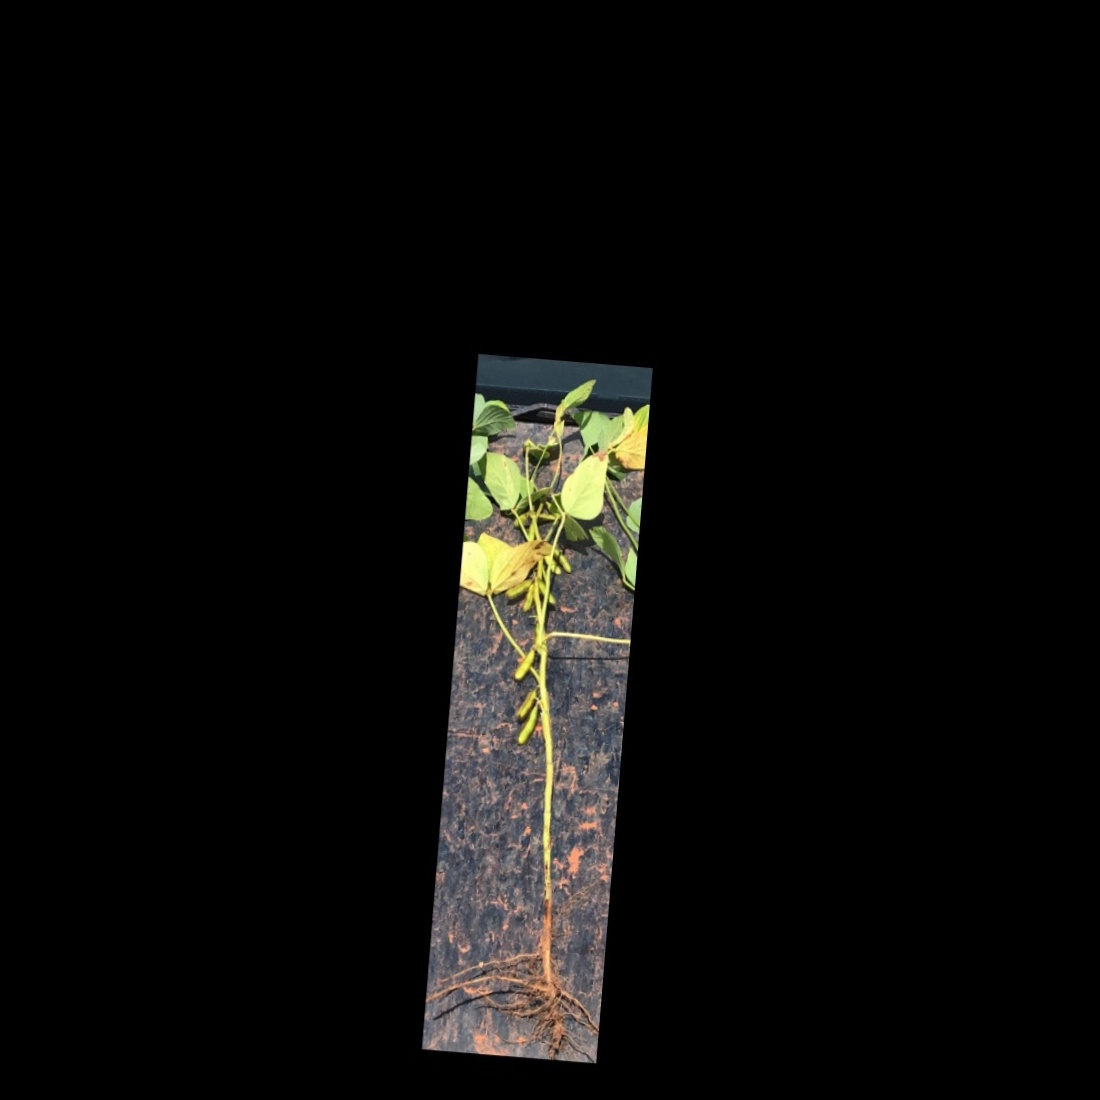pod: (514, 700, 544, 749), (511, 645, 541, 687), (513, 688, 539, 724), (536, 575, 563, 606), (550, 545, 576, 577), (501, 577, 533, 602), (539, 551, 563, 580), (510, 507, 533, 528)
soy: (429, 374, 643, 1039)
